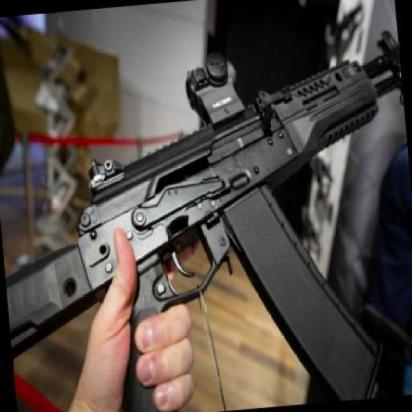Gun: (9, 41, 401, 404)
